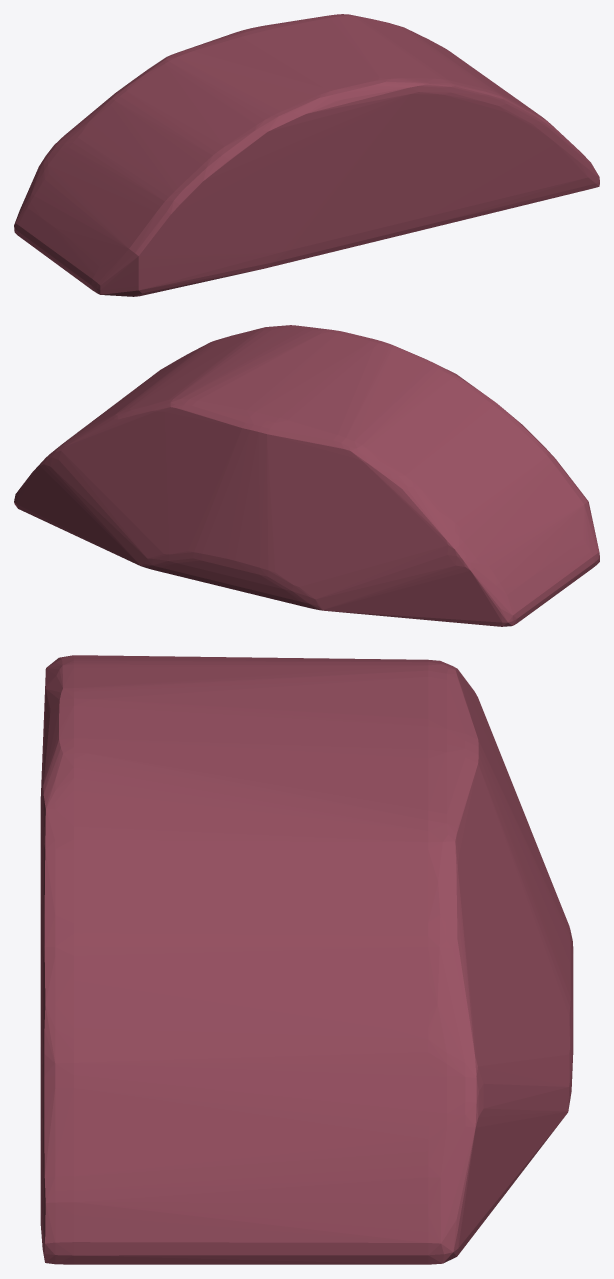
The model's file is left_shoulder_roll_link_part_13.obj.
3 renders of one model, top to bottom at view 1: azimuth 30°, elevation 25°; view 2: azimuth 150°, elevation 25°; view 3: azimuth 270°, elevation 25°, orthographic. The views are drawn at different scales.
Bounding box in the file's own units: 0.0842 × 0.0256 × 0.0397.
